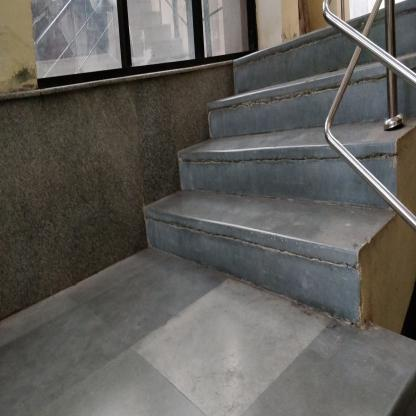stairs: (177, 139, 327, 313)
